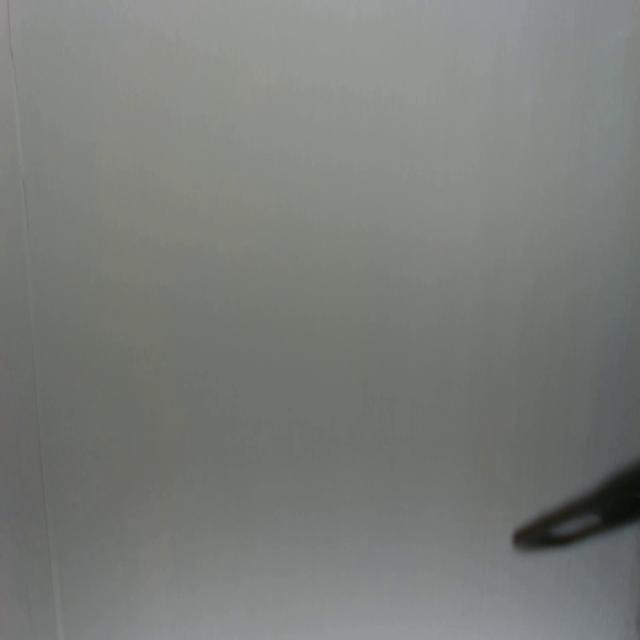crease: (6, 0, 64, 640)
